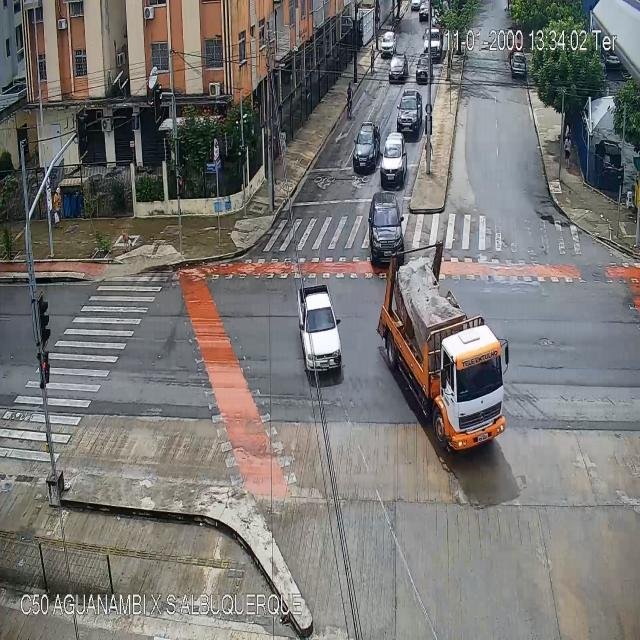Car: (378, 244, 509, 453), (296, 286, 344, 378), (369, 191, 403, 267), (380, 133, 407, 187), (353, 122, 378, 174), (398, 90, 422, 139), (416, 54, 432, 88), (389, 53, 407, 83), (380, 33, 396, 58), (512, 53, 526, 78), (419, 2, 431, 22)
Truck: (423, 25, 443, 63)
